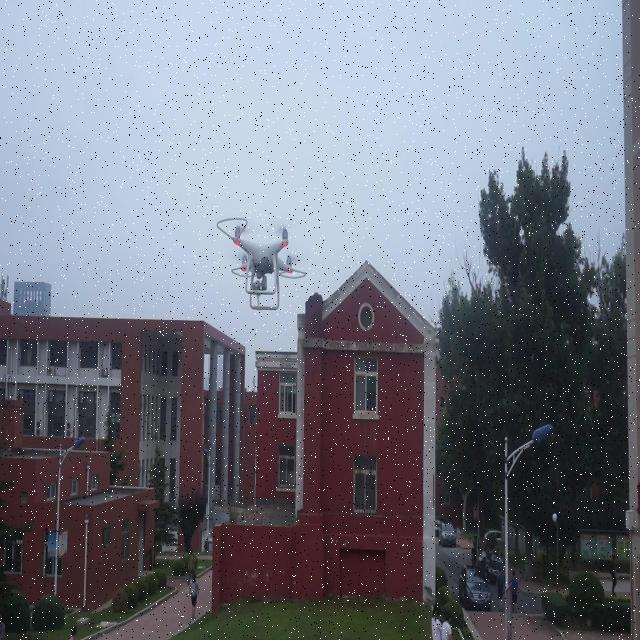UAV: (217, 218, 307, 310)
